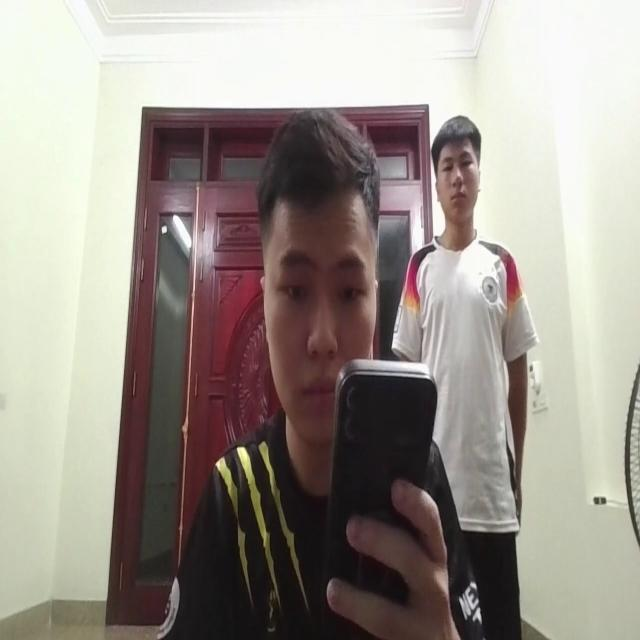extra_person: (401, 103, 523, 550)
phone: (331, 343, 436, 625)
student: (156, 108, 473, 640)
